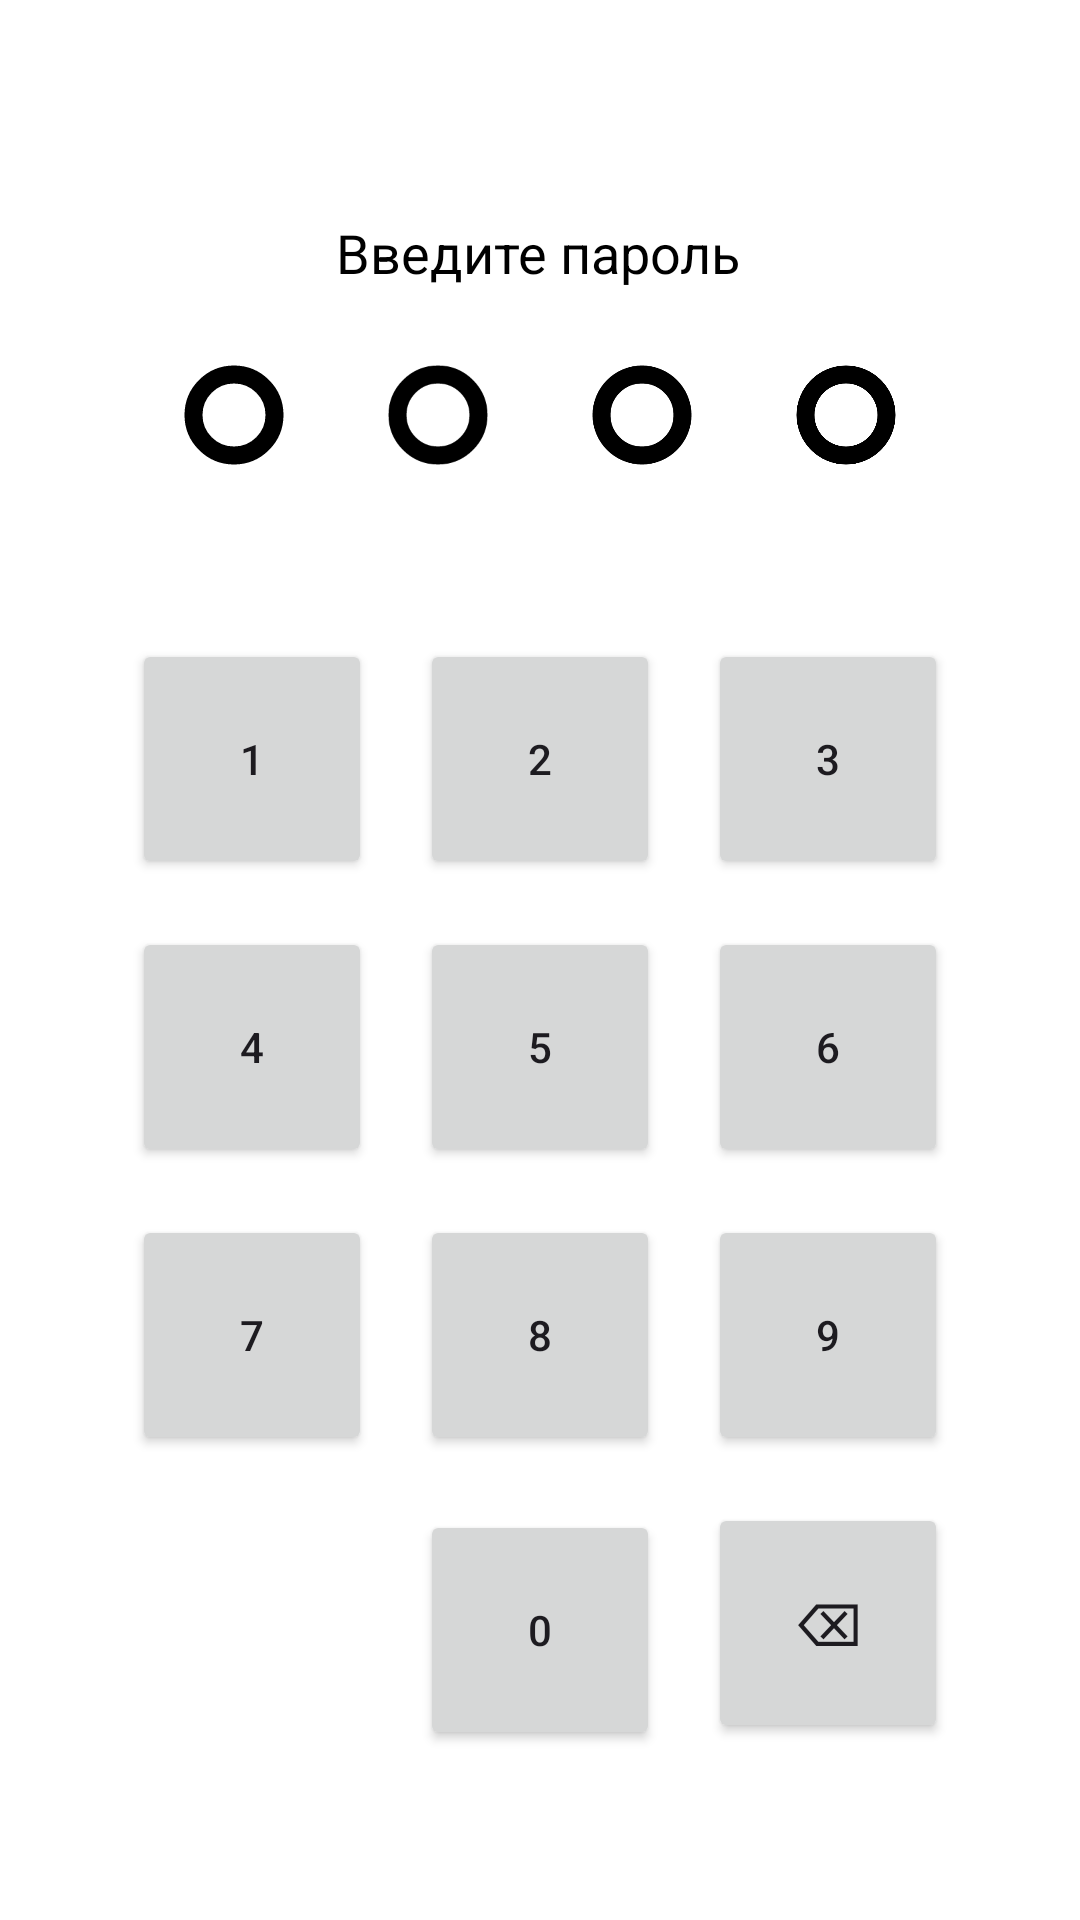

Icons on this 1080 x 1920 Android screen, each with its box as Rect(x1, y1, x2, y2):
circle: Rect(184, 365, 284, 465), Rect(388, 365, 488, 465), Rect(592, 365, 692, 465), Rect(796, 365, 896, 465)
